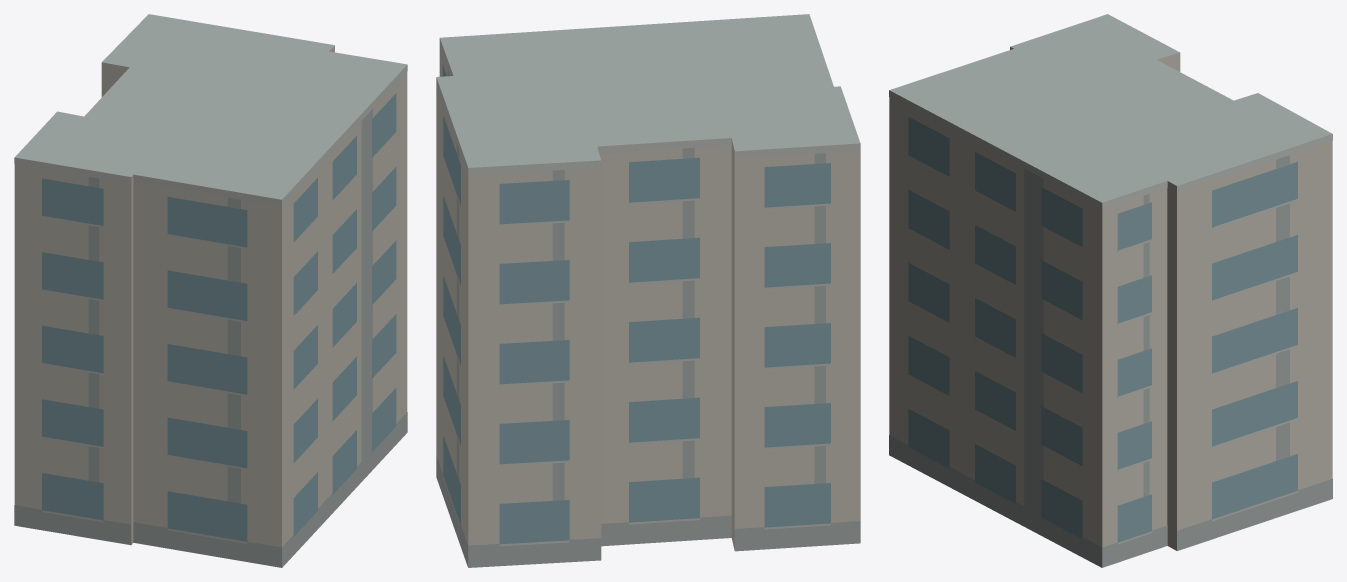
Rendered from survey-upis-32828610.glb.
3 views of the same model, side by side, from view 1: azimuth 30°, elevation 25°; view 2: azimuth 150°, elevation 25°; view 3: azimuth 270°, elevation 25° (orthographic). The views are drawn at different scales.
Parts seen in each view (by area): view 1: survey-upis-32828610.tmp; view 2: survey-upis-32828610.tmp; view 3: survey-upis-32828610.tmp.
Part boxes in pixels (<box>): survey-upis-32828610.tmp: <box>14,14,407,567</box>; survey-upis-32828610.tmp: <box>436,14,860,567</box>; survey-upis-32828610.tmp: <box>889,14,1332,567</box>.
Bounding box in the file's own units: 14.48 × 13.05 × 14.38.
